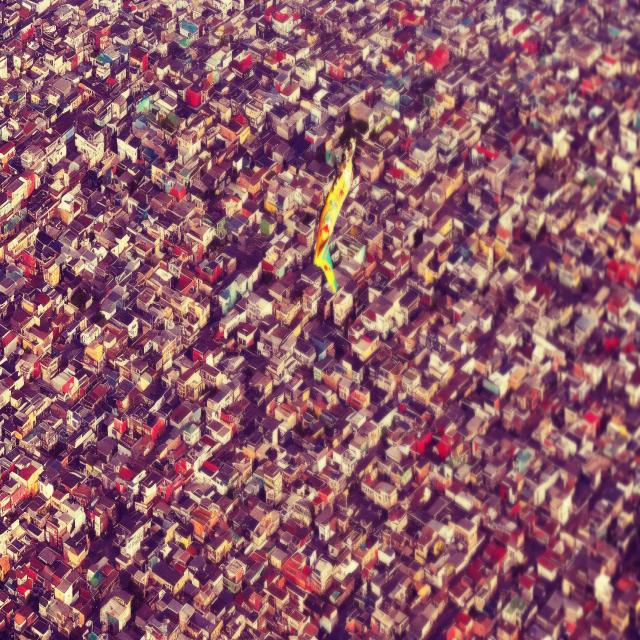airplane: (311, 134, 357, 293)
